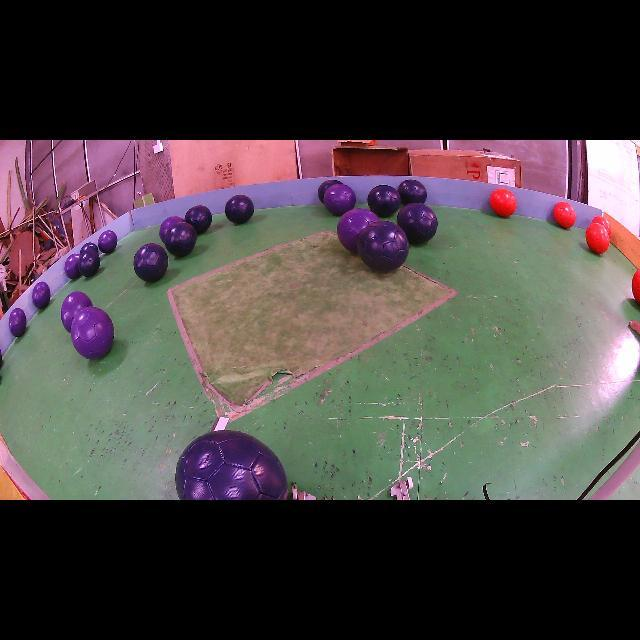B: (175, 430, 288, 500), (358, 221, 409, 272), (396, 202, 438, 244), (134, 242, 168, 282), (164, 221, 198, 256), (368, 185, 401, 218), (225, 195, 254, 224), (185, 205, 212, 234), (398, 180, 428, 205), (79, 250, 100, 278), (318, 180, 342, 202), (80, 242, 99, 254)
P: (71, 306, 114, 360), (338, 208, 379, 252), (61, 291, 92, 332), (324, 184, 356, 216), (159, 216, 185, 242), (32, 281, 51, 309), (98, 230, 118, 254), (9, 309, 26, 336), (64, 254, 80, 279)
R: (586, 222, 610, 254), (490, 188, 516, 216), (554, 201, 576, 229), (592, 216, 611, 237), (631, 269, 640, 305)
